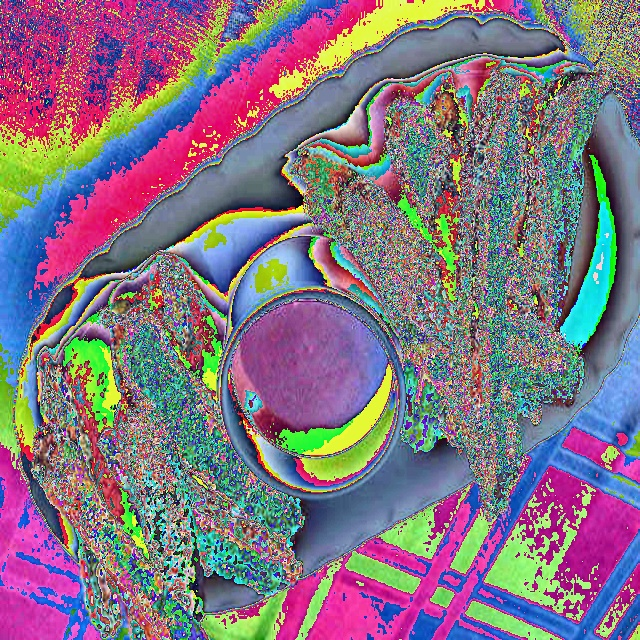background: (291, 65, 618, 524), (31, 252, 305, 639), (161, 161, 392, 460)
